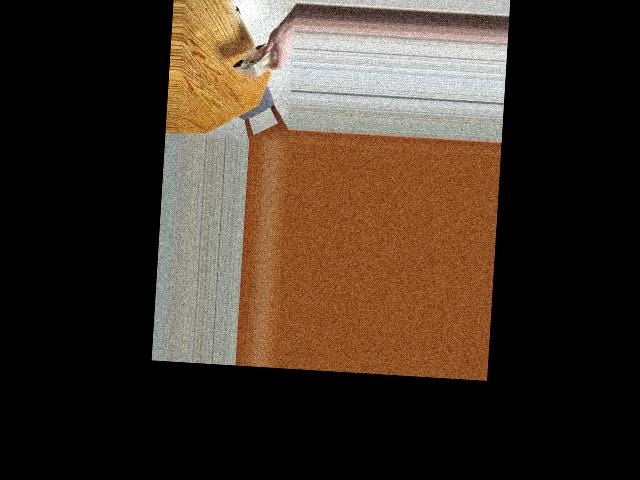cheese: (236, 36, 279, 88)
